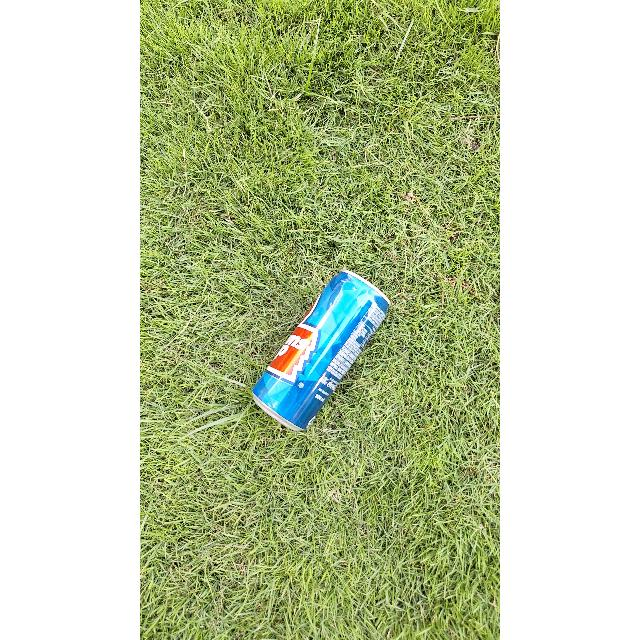Thums Up: (247, 263, 395, 435)
